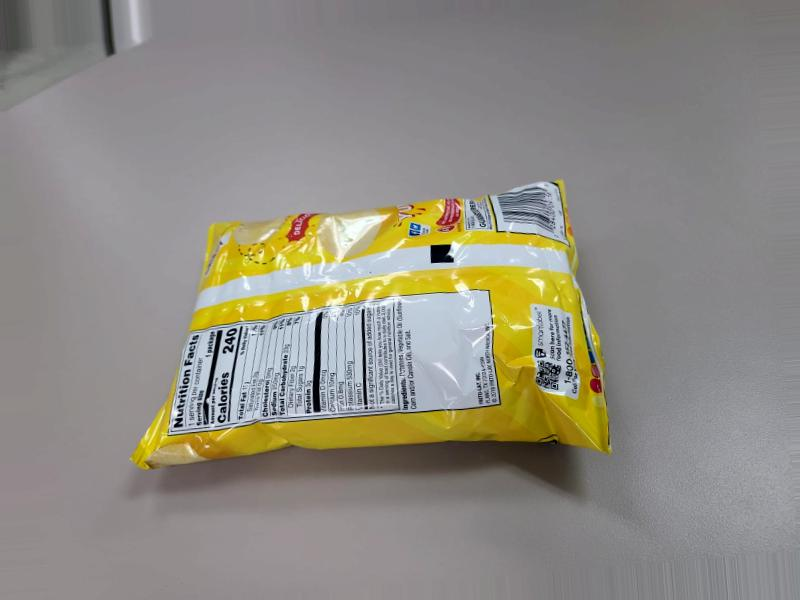lays: (148, 170, 604, 486)
